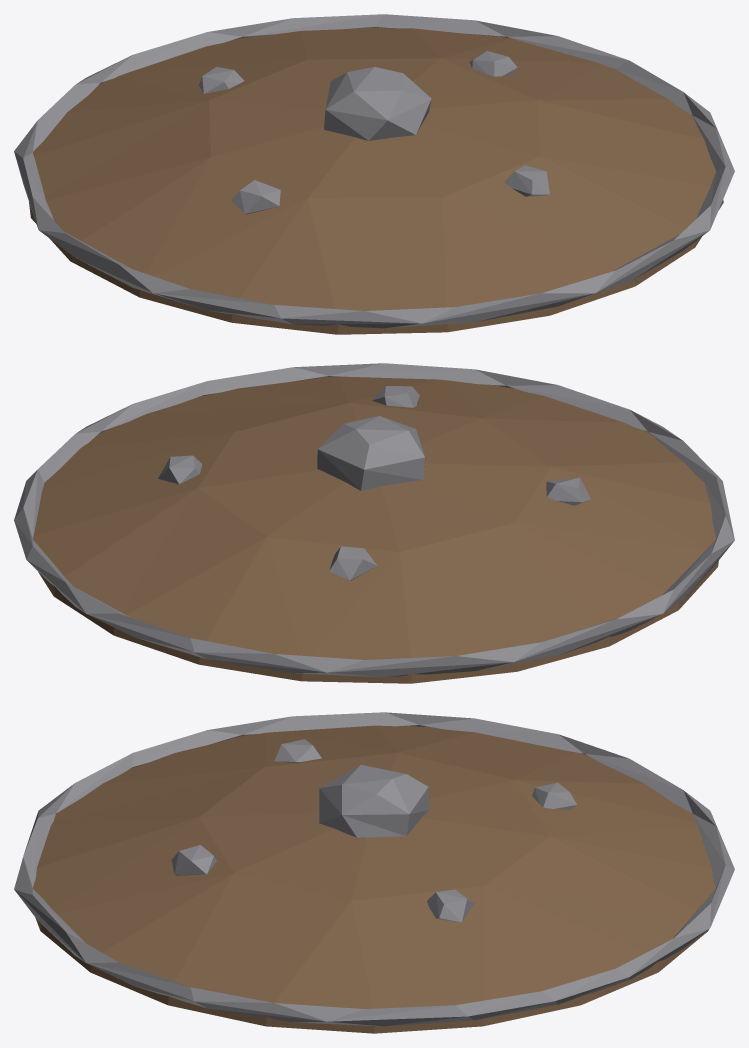
Rendered from round_shield_lod1.glb.
3 views of the same model, one above another, from view 1: azimuth 30°, elevation 25°; view 2: azimuth 150°, elevation 25°; view 3: azimuth 270°, elevation 25° (orthographic).
Visible parts, largest first — view 1: m; view 2: m; view 3: m.
Part boxes in pixels (box(x1,y1,x2,y2)): m: box(14, 14, 734, 334); m: box(14, 363, 734, 683); m: box(14, 712, 734, 1033).
Bounding box in the file's own units: 0.6158 × 0.1049 × 0.6159.
